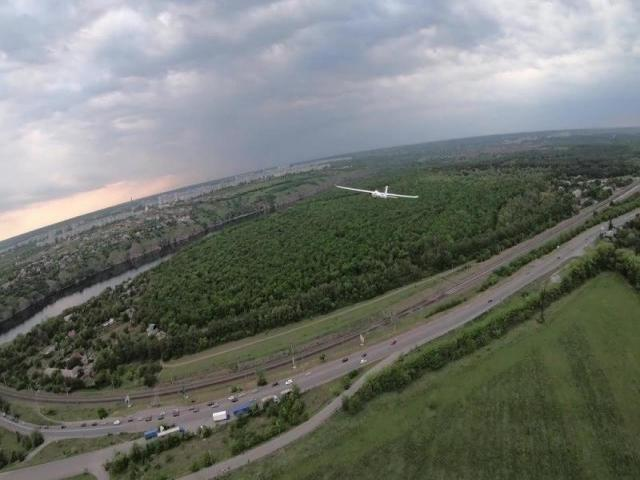hedef: (334, 178, 422, 208)
